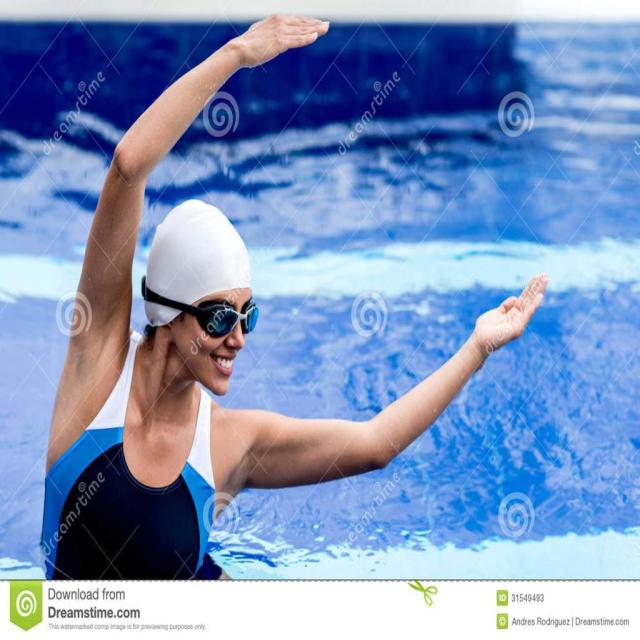Face: (185, 267, 265, 399)
